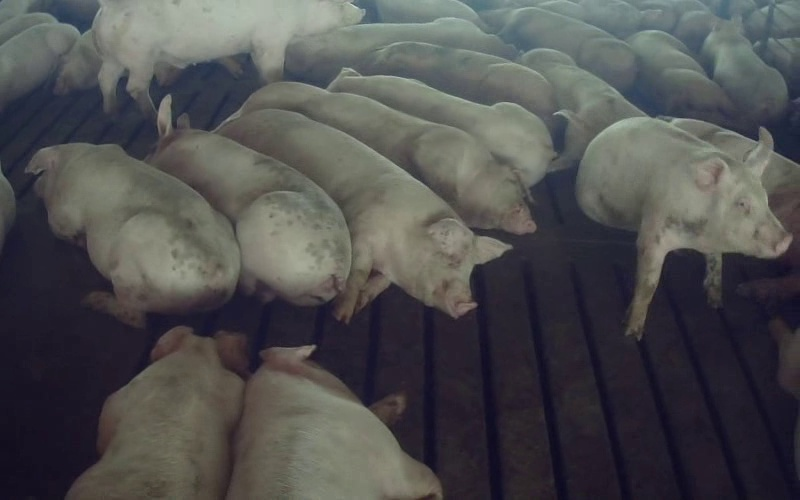pig: (218, 109, 509, 322), (576, 117, 791, 335), (239, 82, 535, 233), (147, 95, 350, 305), (26, 143, 239, 326), (227, 346, 441, 499), (92, 0, 362, 116), (66, 326, 246, 499), (328, 69, 555, 192), (285, 18, 515, 85), (520, 48, 645, 170), (365, 42, 555, 120), (480, 7, 636, 92), (627, 30, 735, 126), (701, 16, 787, 123)
